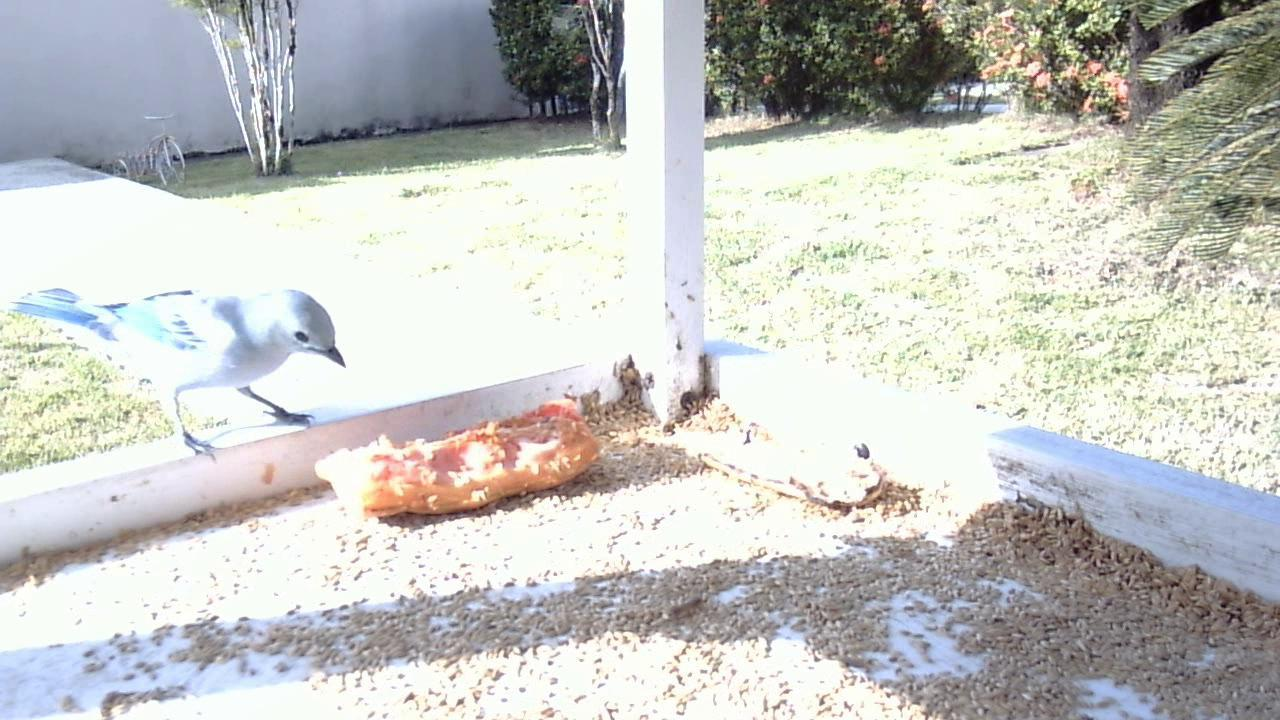sanhaco_da_amazonia: (9, 267, 353, 489)
